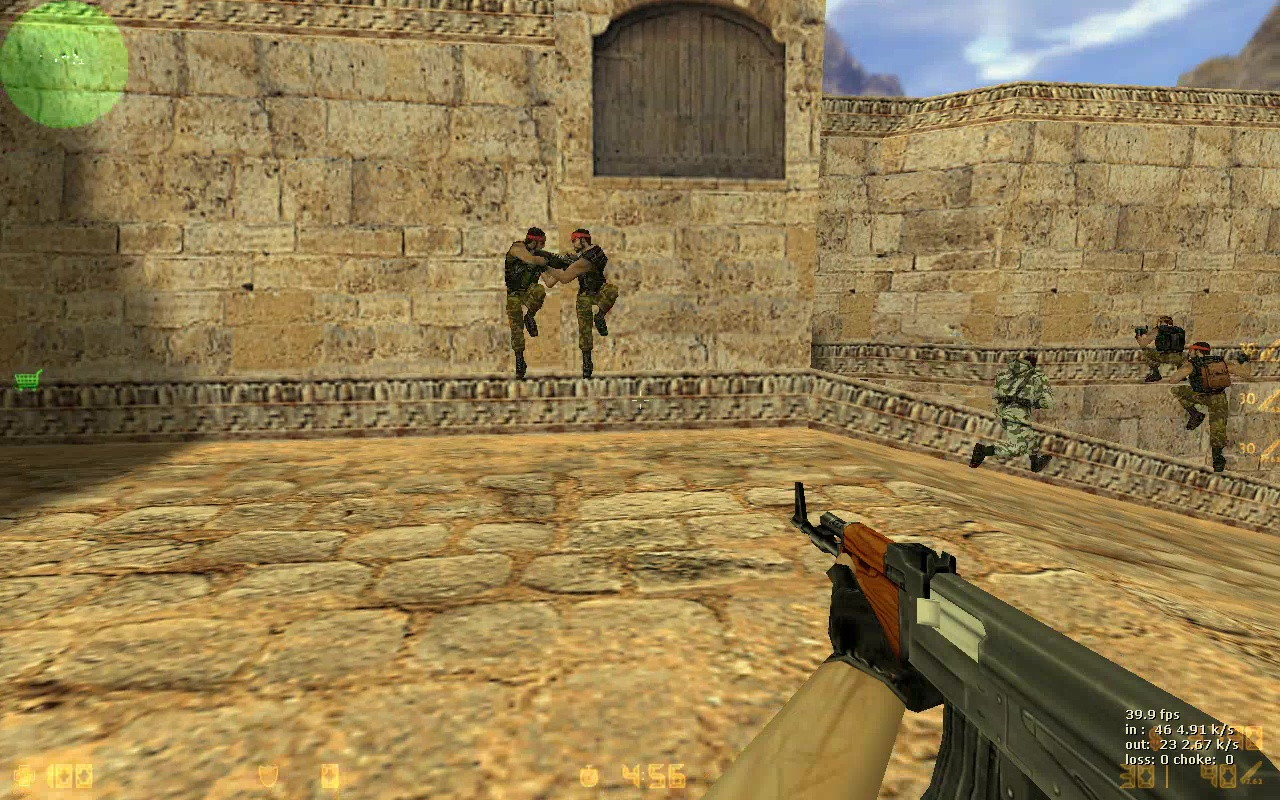terr1: (1168, 342, 1249, 478), (496, 229, 562, 376), (554, 230, 616, 376), (1130, 315, 1193, 383)
terr2: (968, 353, 1054, 477)
